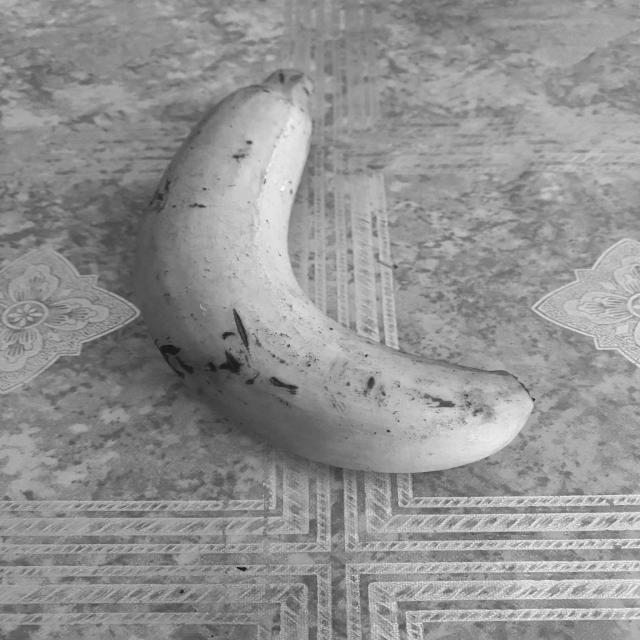Unripe: (62, 39, 579, 494)
